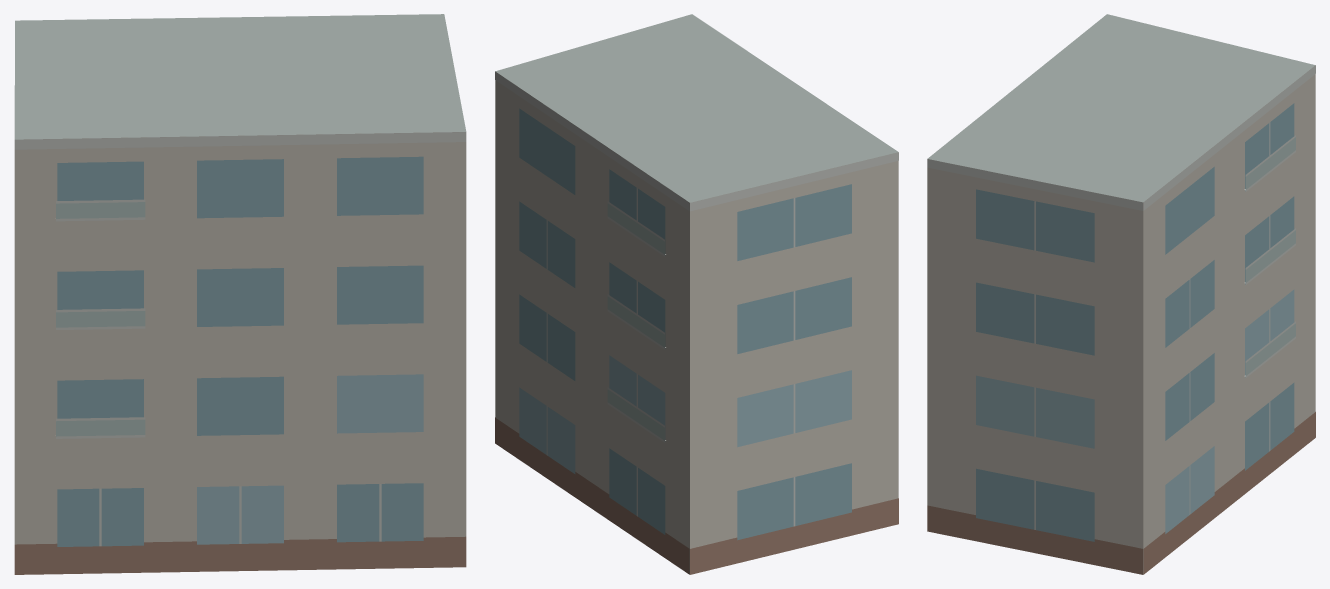
The model's file is survey-upis-32725442.glb.
3 renders of one model, left to right at view 1: azimuth 30°, elevation 25°; view 2: azimuth 150°, elevation 25°; view 3: azimuth 270°, elevation 25°, orthographic. The views are drawn at different scales.
Visible parts, largest first — view 1: survey-upis-32725442.tmp; view 2: survey-upis-32725442.tmp; view 3: survey-upis-32725442.tmp.
Part boxes in pixels (x1,y1,x2,y2): survey-upis-32725442.tmp: (14,14,466,574); survey-upis-32725442.tmp: (495,14,898,574); survey-upis-32725442.tmp: (927,14,1315,574).
Bounding box in the file's own units: 11.4 × 10.5 × 9.93.
